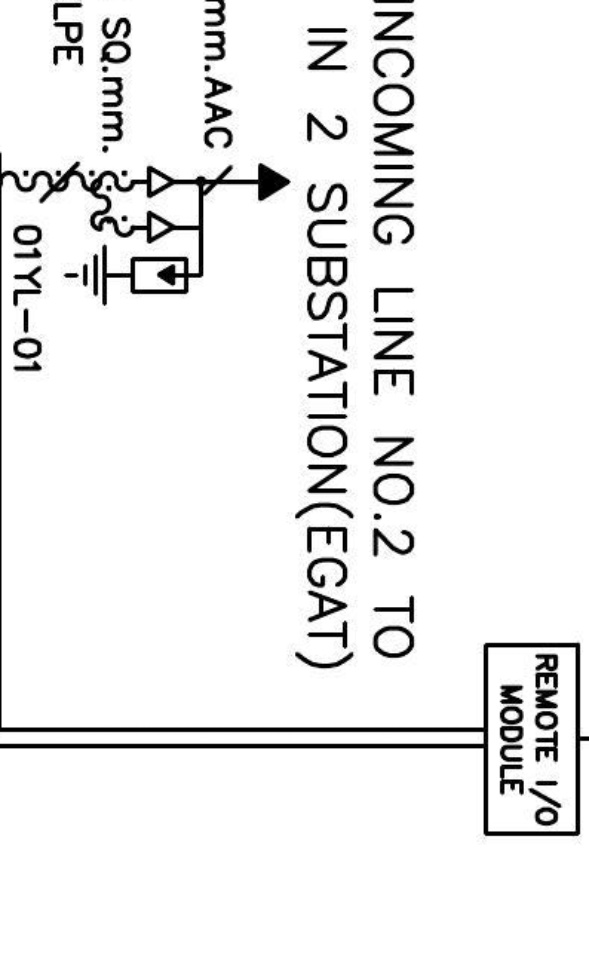115_la: (62, 243, 189, 307)
remote_io_module: (483, 642, 581, 837)
terminator_double: (146, 164, 205, 246)
